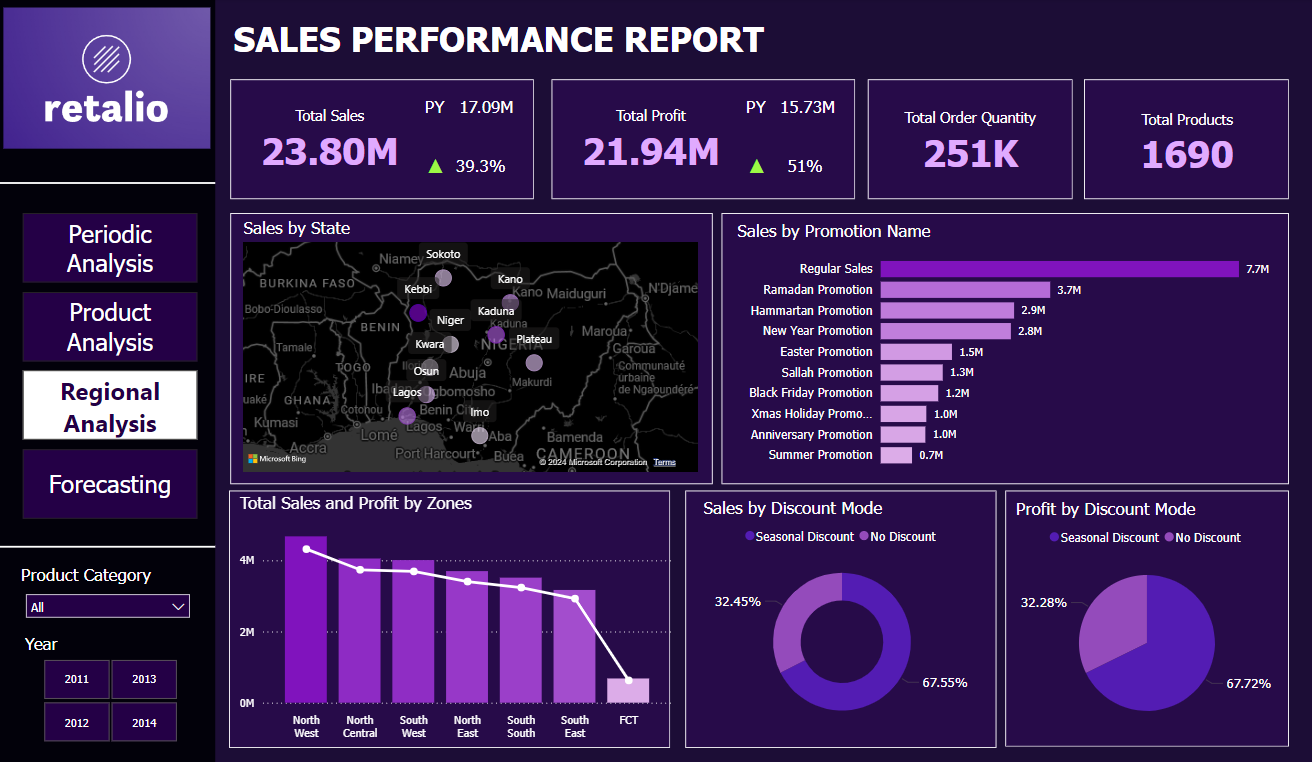

The dashboard page shown, as its layout file describes it:
{"tool":"powerbi","page":{"name":"Regional Analysis","canvas":[1440,840],"ordinal":2},"visuals":[{"type":"shape","box":[251.6,538.7,482.6,281.6],"z":0},{"type":"shape","box":[790.2,235.2,620.7,296.7],"z":1000},{"type":"shape","box":[1100.6,538.7,310.4,280.3],"z":2000},{"type":"shape","box":[750.6,538.7,340.4,281.6],"z":3000},{"type":"shape","box":[252.9,235.2,527.7,296.7],"z":4000},{"type":"shape","box":[1186.7,88.9,224.2,131.3],"z":5000},{"type":"shape","box":[950.2,88.9,224.2,131.3],"z":6000},{"type":"shape","box":[0,0,236.5,839.5],"z":7000},{"type":"textbox","box":[251.6,16.4,616.6,60.2],"z":8000},{"type":"card","title":"Total Order Quantity","fields":{"Values":["Sum(Sales_Data.Order Qty)"]},"box":[963.9,116.2,196.9,80.7],"z":9000},{"type":"card","title":"Total Products","fields":{"Values":["CountNonNull(Sales_Product.ProductKey)"]},"box":[1200.4,117.6,198.2,80.7],"z":10000},{"type":"barChart","title":"Sales by Promotion Name","fields":{"Category":["Sales_Promotion.PromotionName"],"Y":["Sales_Data.Total Sales"]},"box":[802.6,243.4,596.1,280.3],"z":11000},{"type":"donutChart","title":"Sales by Discount Mode","fields":{"Y":["Sales_Data.Total Sales"],"Category":["Sales_Promotion.PromotionType"]},"box":[765.6,545.5,313.1,265.2],"z":12000},{"type":"pieChart","title":"Profit by Discount Mode","fields":{"Y":["Sales_Data.Total Profit"],"Category":["Sales_Promotion.PromotionType"]},"box":[1107.4,546.9,296.7,265.2],"z":13000},{"type":"map","title":"Sales by State","fields":{"Category":["Sales_State.State"],"Size":["Sales_Data.Total Sales"]},"box":[262.5,239.3,507.2,284.4],"z":14000},{"type":"lineStackedColumnComboChart","title":"Total Sales and Profit by Zones","fields":{"Category":["Sales_State.Zone"],"Y":["Sales_Data.Total Sales"],"Y2":["Sales_Data.Total Profit"]},"box":[258.4,540,482.6,278.9],"z":15000},{"type":"pageNavigator","box":[26,235.2,191.4,336.3],"z":16000},{"type":"slicer","title":"Product Category","fields":{"Values":["Sales_Prod_Sub_Cat.Product Category"]},"box":[19.1,619.3,199.6,75.2],"z":17000},{"type":"slicer","title":"Year","fields":{"Values":["Date.Date.Variation.Date Hierarchy.Year"]},"box":[23.2,694.5,195.5,125.8],"z":18000},{"type":"shape","box":[0,590.6,236.5,19.1],"z":19000},{"type":"shape","box":[0,192.8,236.5,19.1],"z":20000},{"type":"image","box":[0,0,236.5,175],"z":21000},{"type":"shape","box":[252.9,88.9,332.2,131.3],"z":22000},{"type":"card","title":"Total Sales","fields":{"Values":["Sales_Data.Total Sales"]},"box":[262.5,113.5,198.2,80.7],"z":23000},{"type":"card","fields":{"Values":["Sales_Data.Sales YoY%"]},"box":[481.3,168.2,91.6,34.2],"z":24000},{"type":"card","fields":{"Values":["Sales_Data.Sales_Icon"]},"box":[460.7,168.2,32.8,34.2],"z":25000},{"type":"card","fields":{"Values":["Sales_Data.Sales LY"]},"box":[493.6,103.9,79.3,34.2],"z":26000},{"type":"textbox","box":[460.7,102.5,39.6,32.8],"z":27000},{"type":"shape","box":[604.2,89,332.2,131.3],"z":28000},{"type":"card","title":"Total Profit","fields":{"Values":["Sales_Data.Total Profit"]},"box":[613.8,113.6,198.2,80.7],"z":29000},{"type":"card","fields":{"Values":["Sales_Data.Profit YoY%"]},"box":[842.2,168.2,79.3,34.2],"z":30000},{"type":"card","fields":{"Values":["Sales_Data.Profit_Icon"]},"box":[812.1,168.2,32.8,34.2],"z":31000},{"type":"card","fields":{"Values":["Sales_Data.Profit LY"]},"box":[844.8,104.1,79.3,34.2],"z":32000},{"type":"textbox","box":[812,102.7,39.6,32.8],"z":33000}]}

Visuals, with their boxes in screenshot pixels (x1, y1, x2, y2), scaled from the page's 1440x840 canvas onto the 1312x762 screenshot:
shape: 229:489:669:744
shape: 720:213:1285:483
shape: 1003:489:1286:743
shape: 684:489:994:744
shape: 230:213:711:483
shape: 1081:81:1285:200
shape: 866:81:1070:200
shape: 0:0:215:761
textbox: 229:15:791:69
"Total Order Quantity" card: 878:105:1058:179
"Total Products" card: 1094:107:1274:180
"Sales by Promotion Name" barChart: 731:221:1274:475
"Sales by Discount Mode" donutChart: 698:495:983:735
"Profit by Discount Mode" pieChart: 1009:496:1279:737
"Sales by State" map: 239:217:701:475
"Total Sales and Profit by Zones" lineStackedColumnComboChart: 235:490:675:743
pageNavigator: 24:213:198:518
"Product Category" slicer: 17:562:199:630
"Year" slicer: 21:630:199:744
shape: 0:536:215:553
shape: 0:175:215:192
image: 0:0:215:159
shape: 230:81:533:200
"Total Sales" card: 239:103:420:176
card - Sales_Data.Sales YoY%: 439:153:522:184
card - Sales_Data.Sales_Icon: 420:153:450:184
card - Sales_Data.Sales LY: 450:94:522:125
textbox: 420:93:456:123
shape: 550:81:853:200
"Total Profit" card: 559:103:740:176
card - Sales_Data.Profit YoY%: 767:153:840:184
card - Sales_Data.Profit_Icon: 740:153:770:184
card - Sales_Data.Profit LY: 770:94:842:125
textbox: 740:93:776:123
